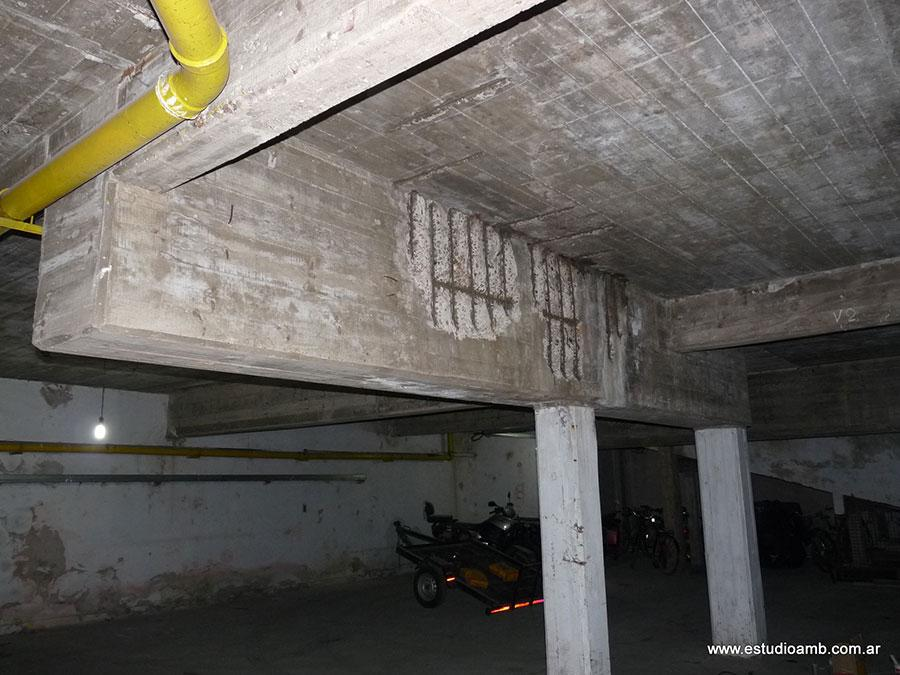spalling: (408, 192, 519, 339), (532, 246, 580, 379), (606, 274, 628, 361)
